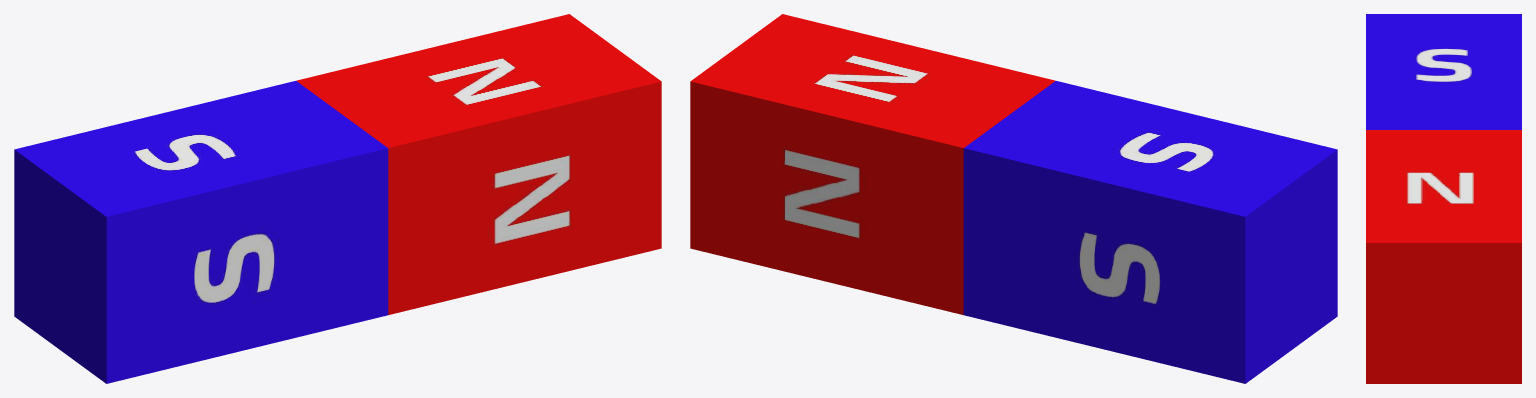
The picture shows the model from 3 angles, left to right: view 1: azimuth 30°, elevation 25°; view 2: azimuth 150°, elevation 25°; view 3: azimuth 270°, elevation 25°; orthographic projection. The views are drawn at different scales.
Parts seen in each view (by area): view 1: s_n1; view 2: s_n1; view 3: s_n1.
Boxes of the visible parts, x1,y1,x2,y2 form: s_n1: (14, 14, 661, 383); s_n1: (690, 14, 1337, 383); s_n1: (1366, 14, 1521, 383).
Bounding box in the file's own units: 348 × 100 × 100.
1 material, 1 textured.
